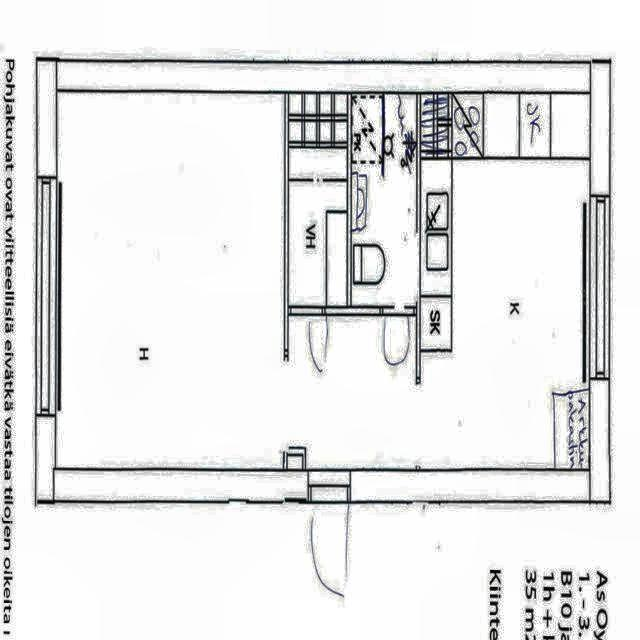room: (351, 92, 417, 306), (288, 93, 347, 306)
